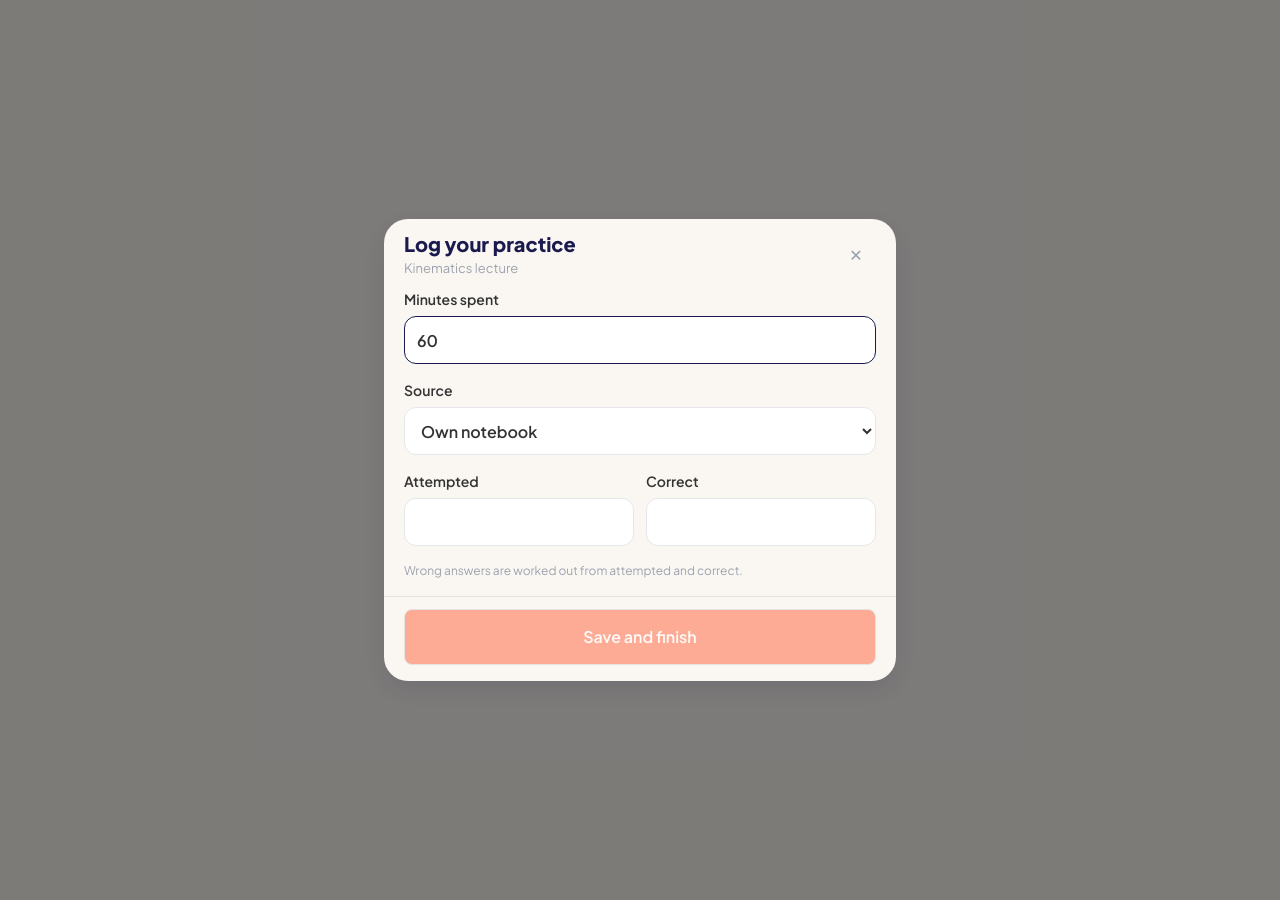
Test: QuickLogSheet — G6 manual completion › works out wrong answers from attempted and correct after a timer
The image size is (1280, 900).
Type "30" into the field with test id "log-attempted".
click(519, 522); type("30")  # box [404, 498, 634, 546]
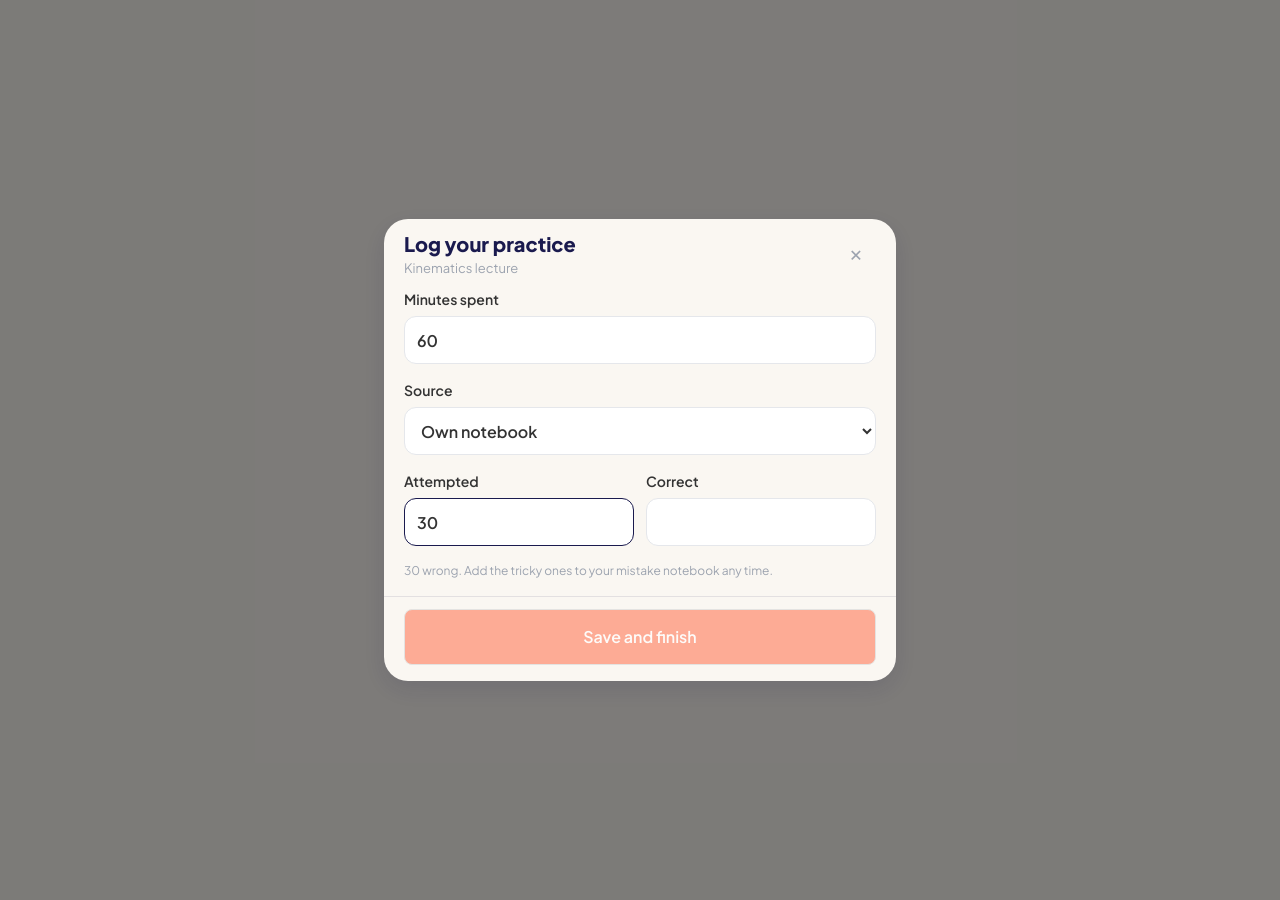
Type "21" into the field with test id "log-correct".
click(761, 522); type("21")  # box [646, 498, 876, 546]
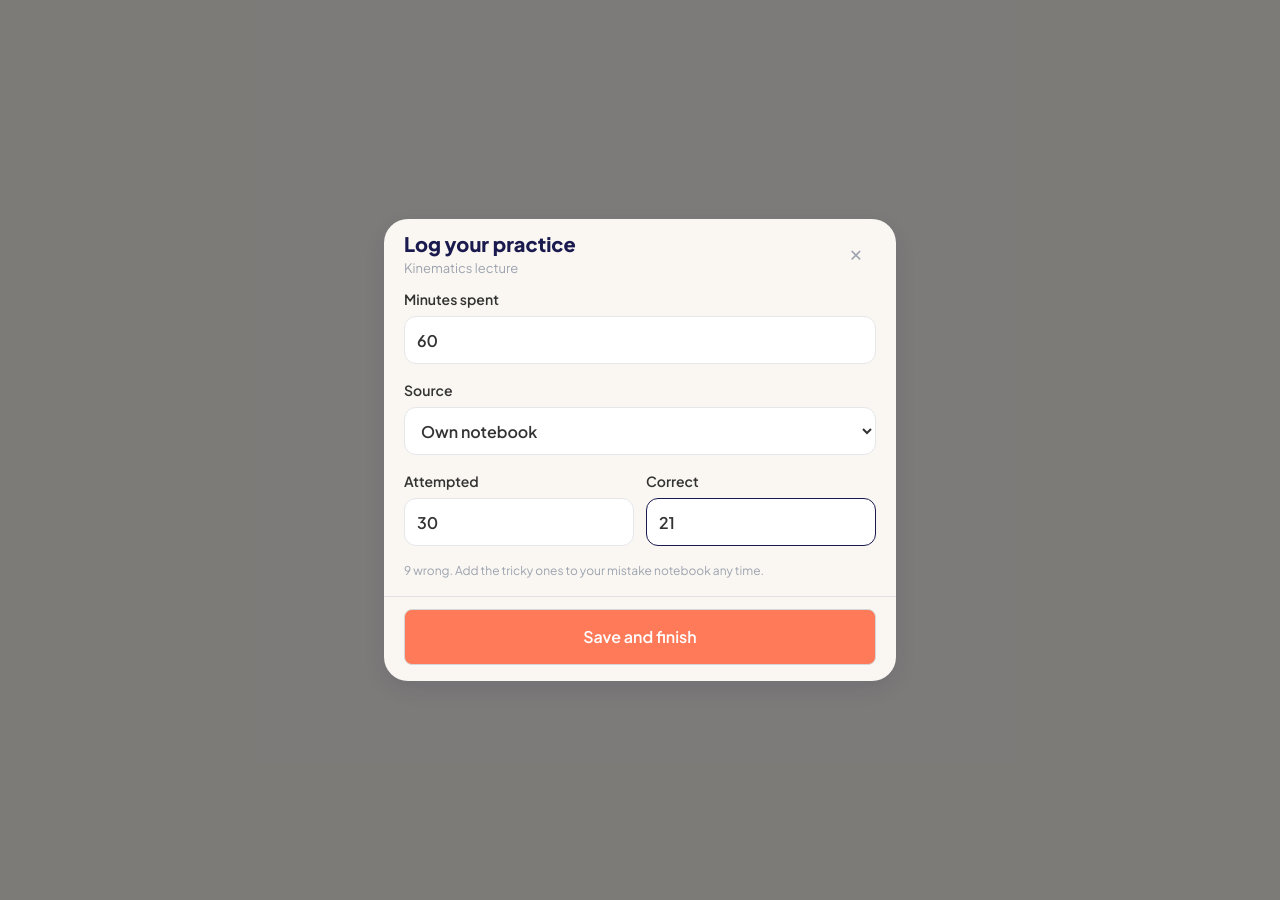
Result: the text with test id "log-wrong" shows "9 wrong" at [404, 563, 764, 578]
